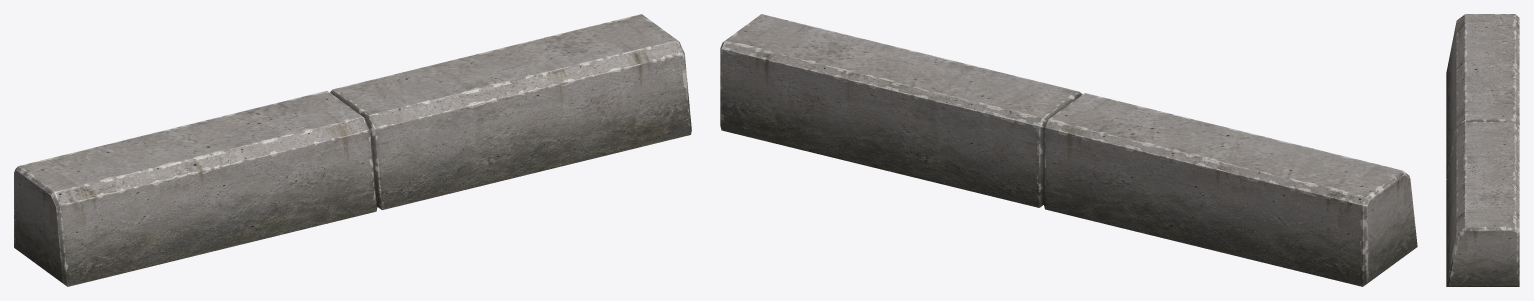
File: SM_CURB_Front_01.fbx
The picture shows the model from 3 angles, left to right: view 1: azimuth 30°, elevation 25°; view 2: azimuth 150°, elevation 25°; view 3: azimuth 270°, elevation 25°; orthographic projection. The views are drawn at different scales.
Parts seen in each view (by area): view 1: SM_CURB_Front_01; view 2: SM_CURB_Front_01; view 3: SM_CURB_Front_01.
Boxes of the visible parts, <box> form: SM_CURB_Front_01: <box>14,14,691,286</box>; SM_CURB_Front_01: <box>720,14,1417,286</box>; SM_CURB_Front_01: <box>1446,14,1519,286</box>.
Size of the model in its own units: 1.4 by 0.18 by 0.2013.
Materials: 1 (1 with a texture image).
